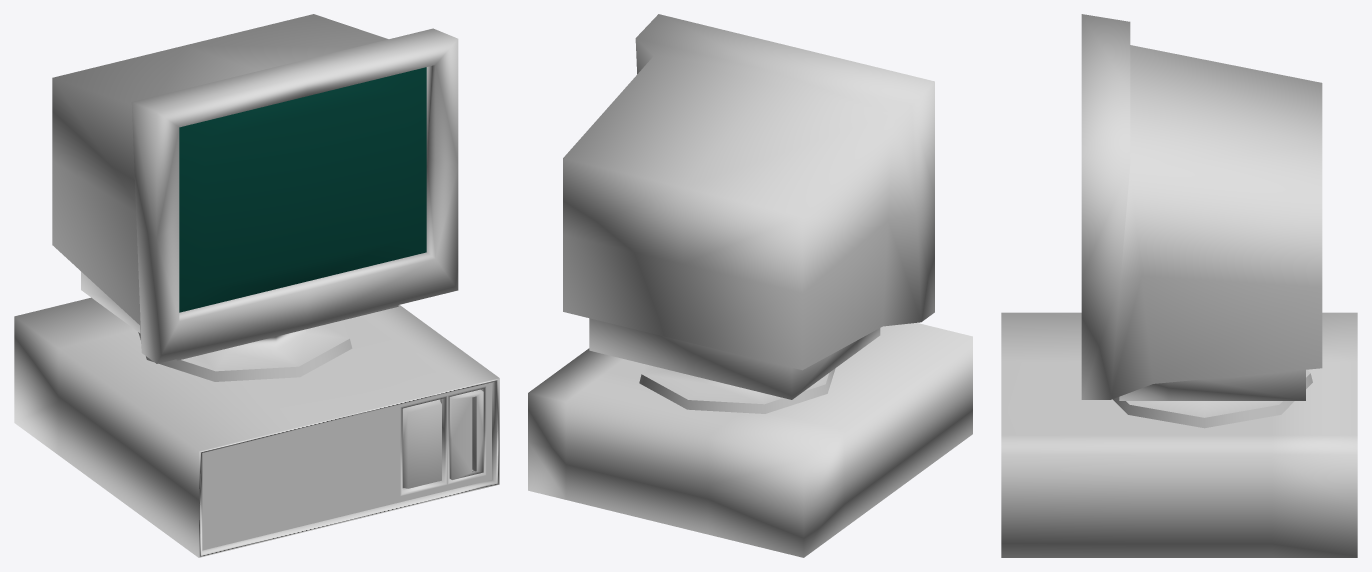
3 views of the same model, side by side, from view 1: azimuth 30°, elevation 25°; view 2: azimuth 150°, elevation 25°; view 3: azimuth 270°, elevation 25° (orthographic). The views are drawn at different scales.
Parts seen in each view (by area): view 1: GEO_Monitor, GEO_Tarro; view 2: GEO_Monitor, GEO_Tarro; view 3: GEO_Monitor, GEO_Tarro.
Boxes of the visible parts, <box> form: GEO_Monitor: <box>52,14,458,381</box>; GEO_Tarro: <box>14,297,499,557</box>; GEO_Monitor: <box>563,14,934,413</box>; GEO_Tarro: <box>528,323,972,557</box>; GEO_Monitor: <box>1081,14,1322,428</box>; GEO_Tarro: <box>1001,312,1357,557</box>.
Size of the model in its own units: 98.28 by 129 by 104.
